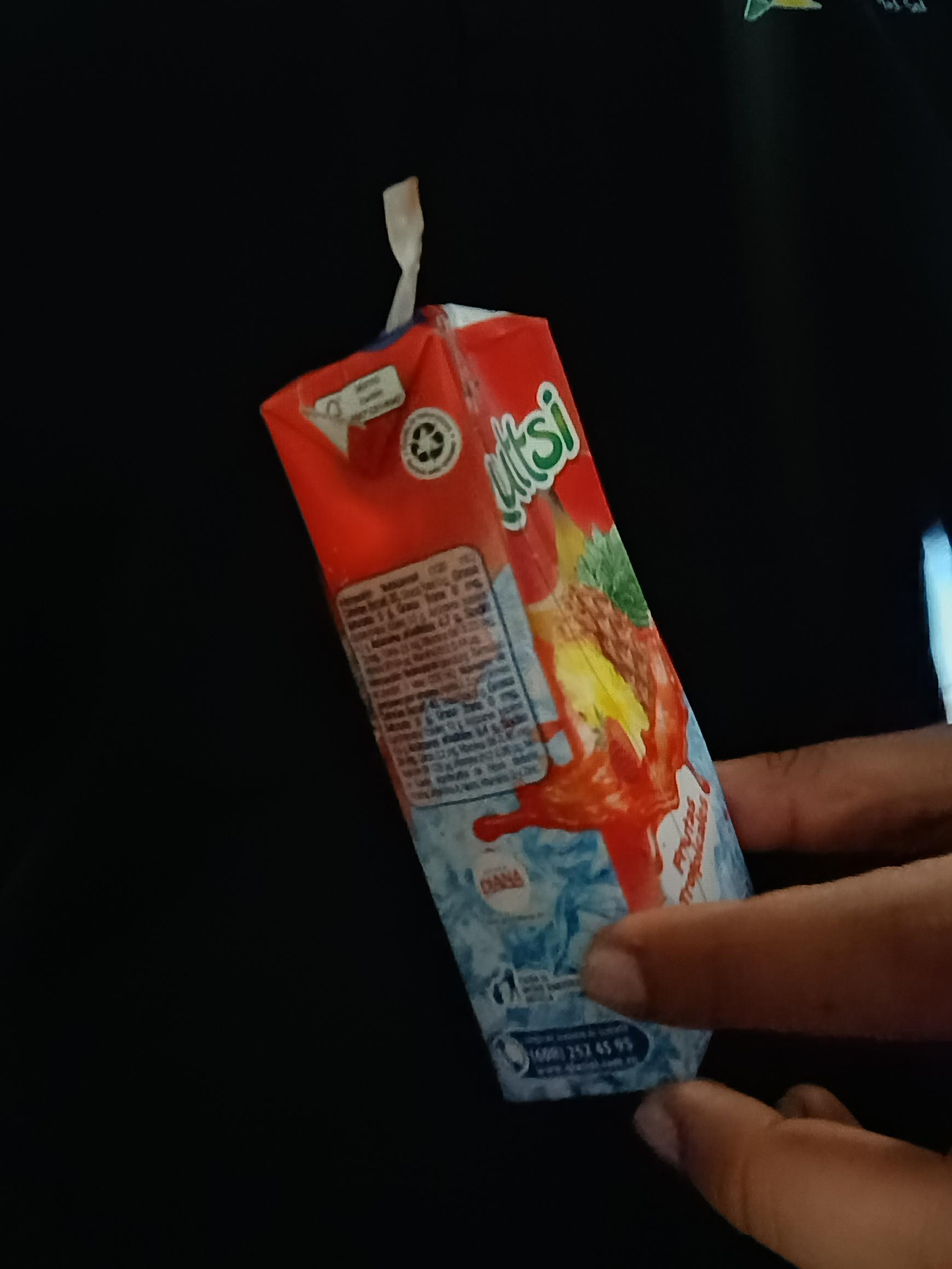Carton: (262, 308, 756, 1103)
